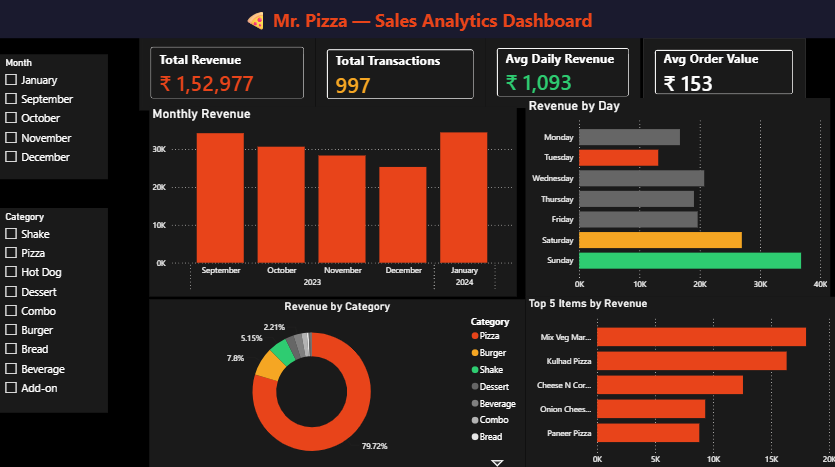

This screenshot's page, from the dashboard's own definition file:
{"tool":"powerbi","page":{"name":"Page 1","canvas":[1280,720],"ordinal":0},"visuals":[{"type":"cardVisual","fields":{"Data":["Sales Data.Total Revenue"]},"box":[227.5,63.9,265.1,112.8],"z":0},{"type":"actionButton","box":[0,0,100,40],"z":1000},{"type":"cardVisual","fields":{"Data":["Sales Data.Total Transactions"]},"box":[492.6,67.7,255.7,109],"z":2000},{"type":"cardVisual","fields":{"Data":["Sales Data.Avg Daily Revenue"]},"box":[748.3,65.8,233.1,107.2],"z":3000},{"type":"cardVisual","fields":{"Data":["Sales Data.Avg Order Value"]},"box":[985.2,67.7,244.4,103.4],"z":4000},{"type":"clusteredColumnChart","title":"Monthly Revenue","fields":{"Y":["Sales Data.Total Revenue"],"Category":["Sales Data.Date.Variation.Date Hierarchy.Year","Sales Data.Date.Variation.Date Hierarchy.Month"]},"box":[216.2,171.1,547.1,285.8],"z":5000},{"type":"clusteredBarChart","title":"Revenue by Day","fields":{"Category":["Sales Data.Day"],"Y":["Sales Data.Total Revenue"]},"box":[776.5,157.9,468.2,298.9],"z":6000},{"type":"donutChart","title":"Revenue by Category","fields":{"Category":["Sales Data.Category"],"Y":["Sales Data.Total Revenue"]},"box":[210.6,460.6,565.9,259.5],"z":7000},{"type":"clusteredBarChart","title":"Top 5 Items by Revenue ","fields":{"Category":["Sales Data.Item Name"],"Y":["Sales Data.Total Revenue"]},"box":[799.1,477.6,468.2,242.5],"z":8000},{"type":"slicer","fields":{"Values":["Sales Data.Category"]},"box":[13.2,323.4,167.3,308.3],"z":9000},{"type":"slicer","fields":{"Values":["Sales Data.Date.Variation.Date Hierarchy.Month"]},"box":[13.2,92.1,167.3,188],"z":10000},{"type":"textbox","box":[13.2,0,1267.2,67.7],"z":11000}]}

Visuals, with their boxes in screenshot pixels (x1, y1, x2, y2), scaled from the page's 1280x720 canvas onto the 835x467 screenshot:
cardVisual - Sales Data.Total Revenue: (left=148, top=41, right=321, bottom=115)
actionButton: (left=0, top=0, right=65, bottom=26)
cardVisual - Sales Data.Total Transactions: (left=321, top=44, right=488, bottom=115)
cardVisual - Sales Data.Avg Daily Revenue: (left=488, top=43, right=640, bottom=112)
cardVisual - Sales Data.Avg Order Value: (left=643, top=44, right=802, bottom=111)
"Monthly Revenue" clusteredColumnChart: (left=141, top=111, right=498, bottom=296)
"Revenue by Day" clusteredBarChart: (left=507, top=102, right=812, bottom=296)
"Revenue by Category" donutChart: (left=137, top=299, right=507, bottom=466)
"Top 5 Items by Revenue " clusteredBarChart: (left=521, top=310, right=827, bottom=466)
slicer - Sales Data.Category: (left=9, top=210, right=118, bottom=410)
slicer - Sales Data.Date.Variation.Date Hierarchy.Month: (left=9, top=60, right=118, bottom=182)
textbox: (left=9, top=0, right=834, bottom=44)
